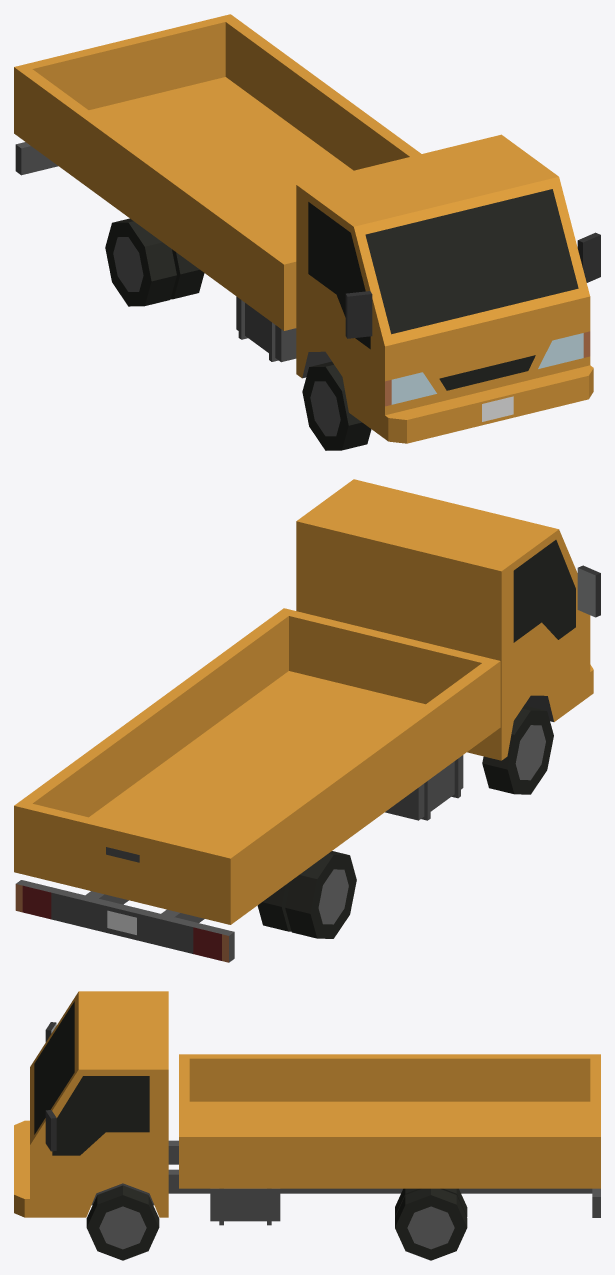
Rendered from Veh_Truck_02_Flat_Yellow.obj.
3 renders of one model, top to bottom at view 1: azimuth 30°, elevation 25°; view 2: azimuth 150°, elevation 25°; view 3: azimuth 270°, elevation 25°, orthographic. The views are drawn at different scales.
Size of the model in its own units: 1.27 by 1.17 by 3.26.
